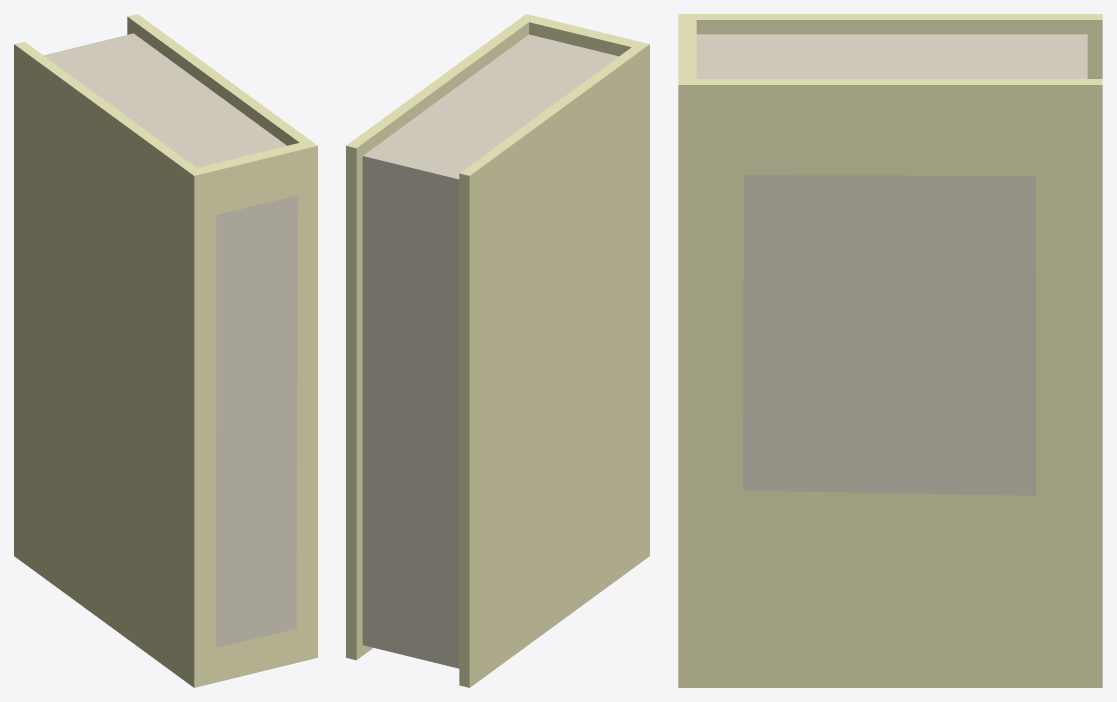
File: book7.fbx
The picture shows the model from 3 angles, left to right: view 1: azimuth 30°, elevation 25°; view 2: azimuth 150°, elevation 25°; view 3: azimuth 270°, elevation 25°; orthographic projection. The views are drawn at different scales.
Parts seen in each view (by area): view 1: Boole_4; view 2: Boole_4; view 3: Boole_4.
Boxes of the visible parts, bbox=[...] form: Boole_4: bbox=[14, 14, 317, 687]; Boole_4: bbox=[346, 14, 649, 687]; Boole_4: bbox=[678, 14, 1102, 687].
Size of the model in its own units: 11.73 by 46.4 by 29.58.
